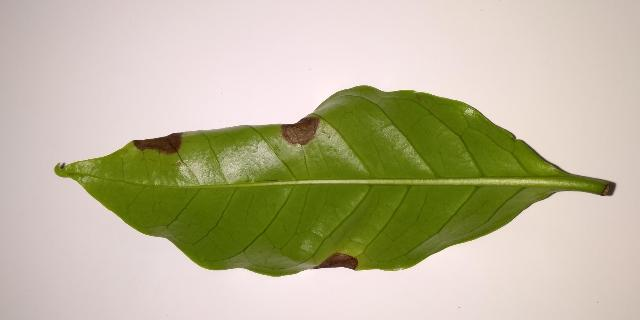rust: (281, 117, 320, 145), (133, 132, 182, 154), (314, 253, 358, 270)
